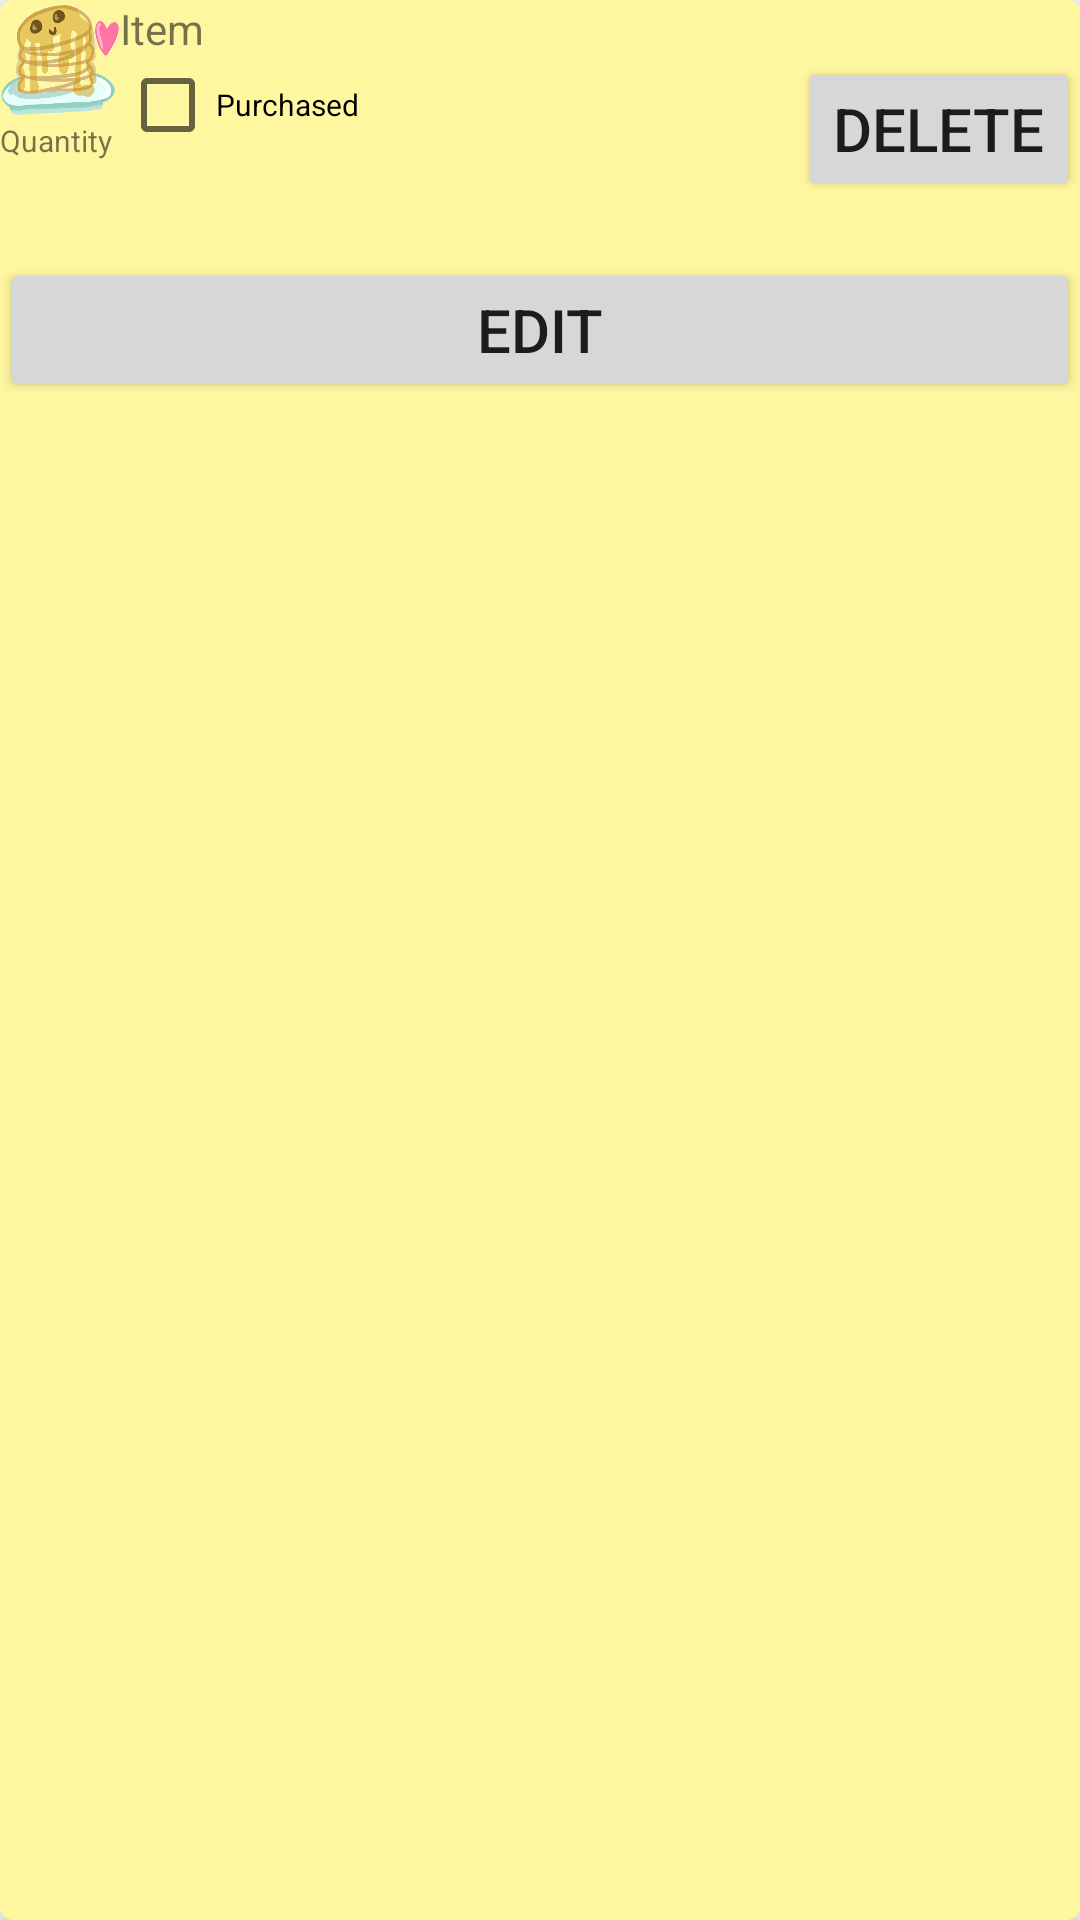

Locate icon controls on the screen. Image size 1080×1920, boxes as (x1, y1, x2, y2).
food: (0, 0, 119, 115)
